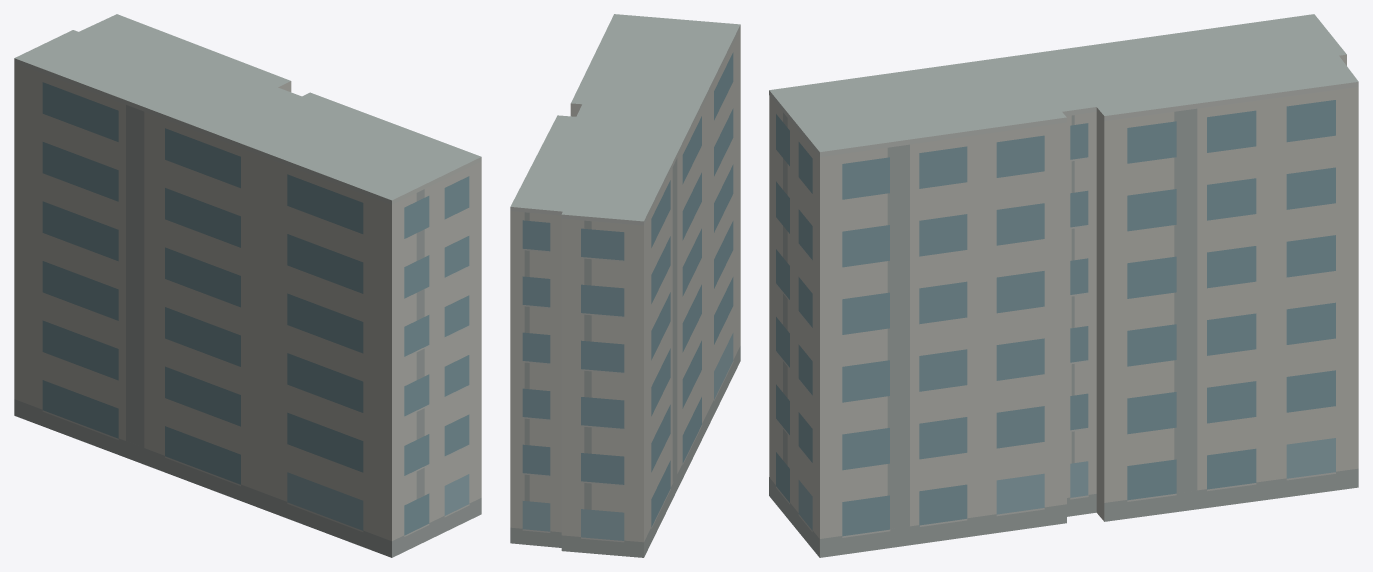
The model's file is survey-upis-32977659.glb.
3 renders of one model, left to right at view 1: azimuth 30°, elevation 25°; view 2: azimuth 150°, elevation 25°; view 3: azimuth 270°, elevation 25°, orthographic. The views are drawn at different scales.
Parts seen in each view (by area): view 1: survey-upis-32977659.tmp; view 2: survey-upis-32977659.tmp; view 3: survey-upis-32977659.tmp.
Part boxes in pixels (x1,y1,x2,y2): survey-upis-32977659.tmp: (14, 14, 481, 557); survey-upis-32977659.tmp: (510, 14, 740, 557); survey-upis-32977659.tmp: (769, 14, 1358, 557).
Size of the model in its own units: 14.22 by 19.45 by 25.63.
